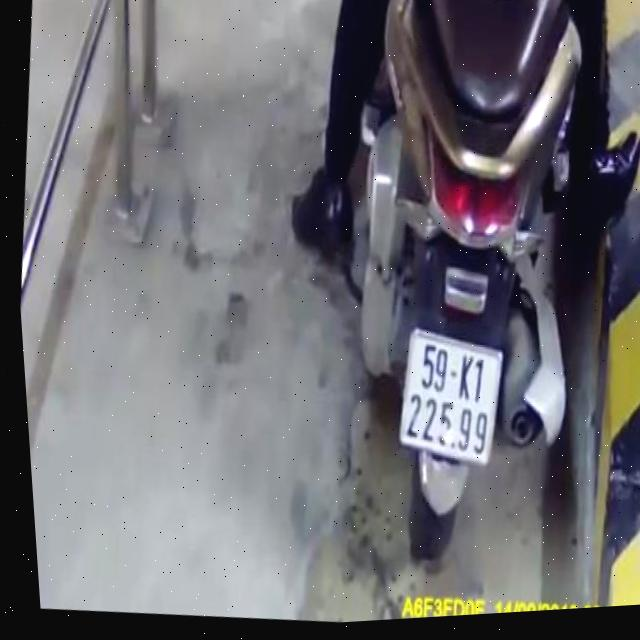motorcycle: (305, 0, 625, 589)
plate: (389, 318, 515, 474)
